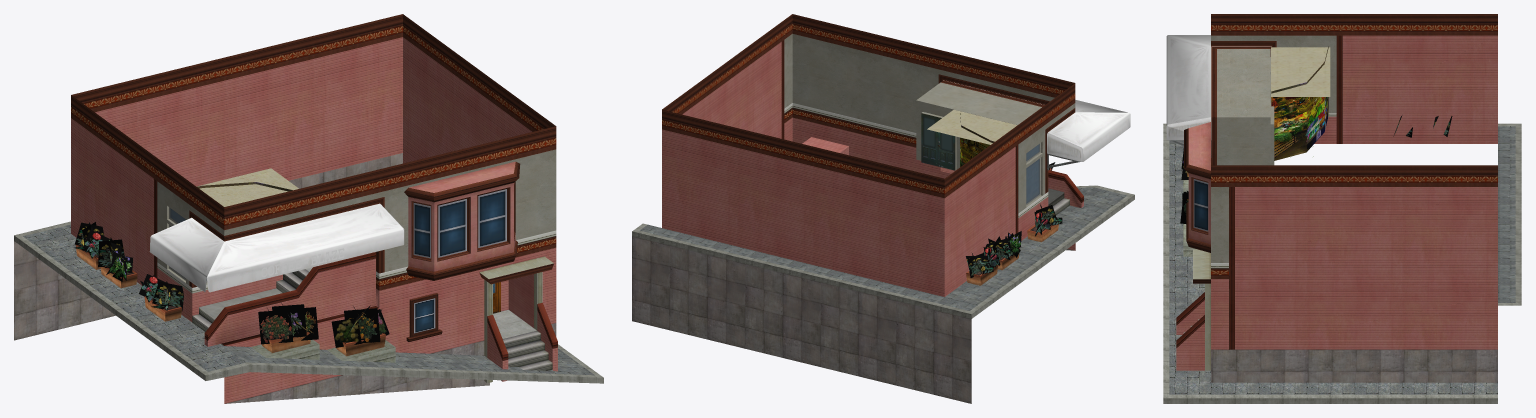
File: HouseB_Base-15.obj
3 renders of one model, left to right at view 1: azimuth 30°, elevation 25°; view 2: azimuth 150°, elevation 25°; view 3: azimuth 270°, elevation 25°, orthographic. The views are drawn at different scales.
Parts seen in each view (by area): view 1: HouseB_Base-15; view 2: HouseB_Base-15; view 3: HouseB_Base-15.
Part boxes in pixels (x1,y1,x2,y2): HouseB_Base-15: (14,14,603,403); HouseB_Base-15: (632,14,1134,403); HouseB_Base-15: (1163,14,1521,403).
Bounding box in the file's own units: 24.75 × 14.5 × 20.63.
